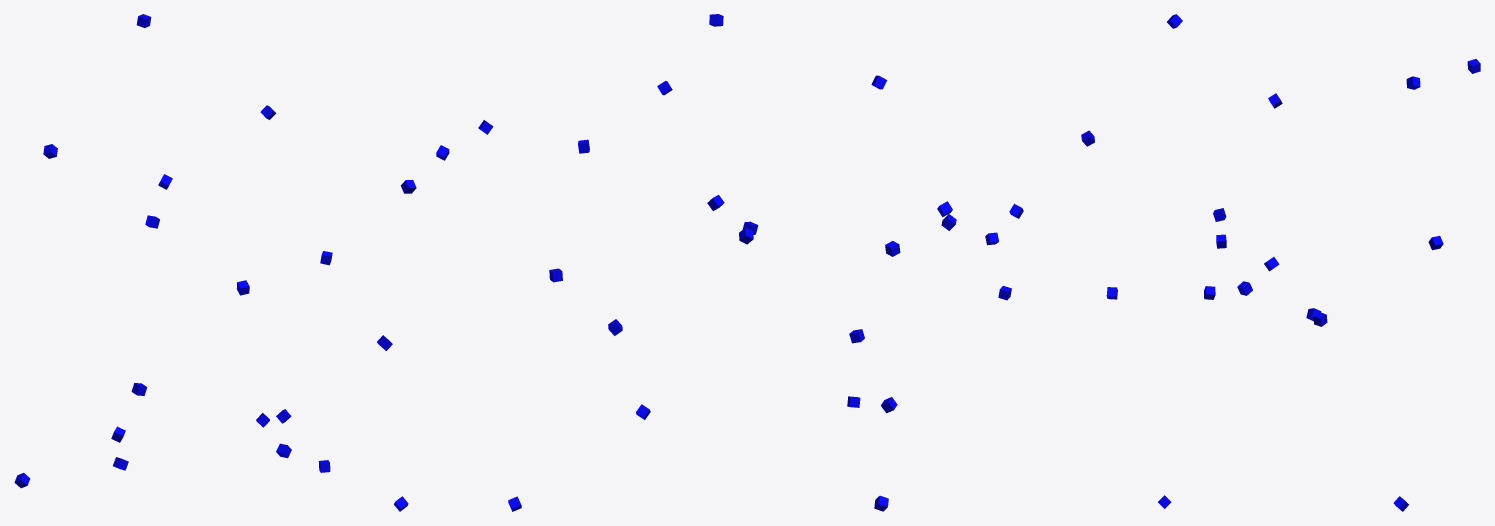
The model's file is cubes_scene_blue.dae.
3 views of the same model, side by side, from view 1: azimuth 30°, elevation 25°; view 2: azimuth 150°, elevation 25°; view 3: azimuth 270°, elevation 25° (orthographic). The views are drawn at different scales.
Bounding box in the file's own units: 98.11 × 103 × 92.12.
